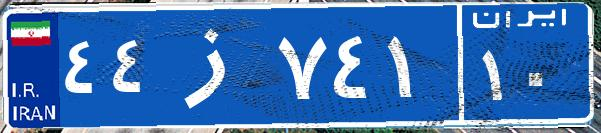0: (525, 38, 570, 115)
1: (385, 28, 445, 110), (475, 38, 525, 113)
4: (330, 28, 385, 110), (57, 26, 110, 107), (110, 28, 158, 105)
7: (273, 28, 330, 110)
ز: (158, 15, 273, 115)
